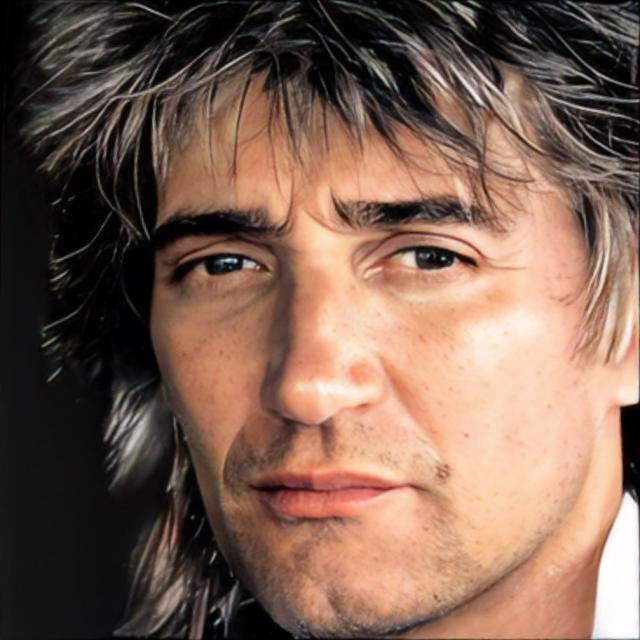content: (149, 56, 600, 640)
